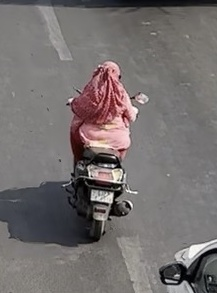BikeWithRider: (62, 58, 150, 242)
NoHelmet: (94, 60, 122, 88)
